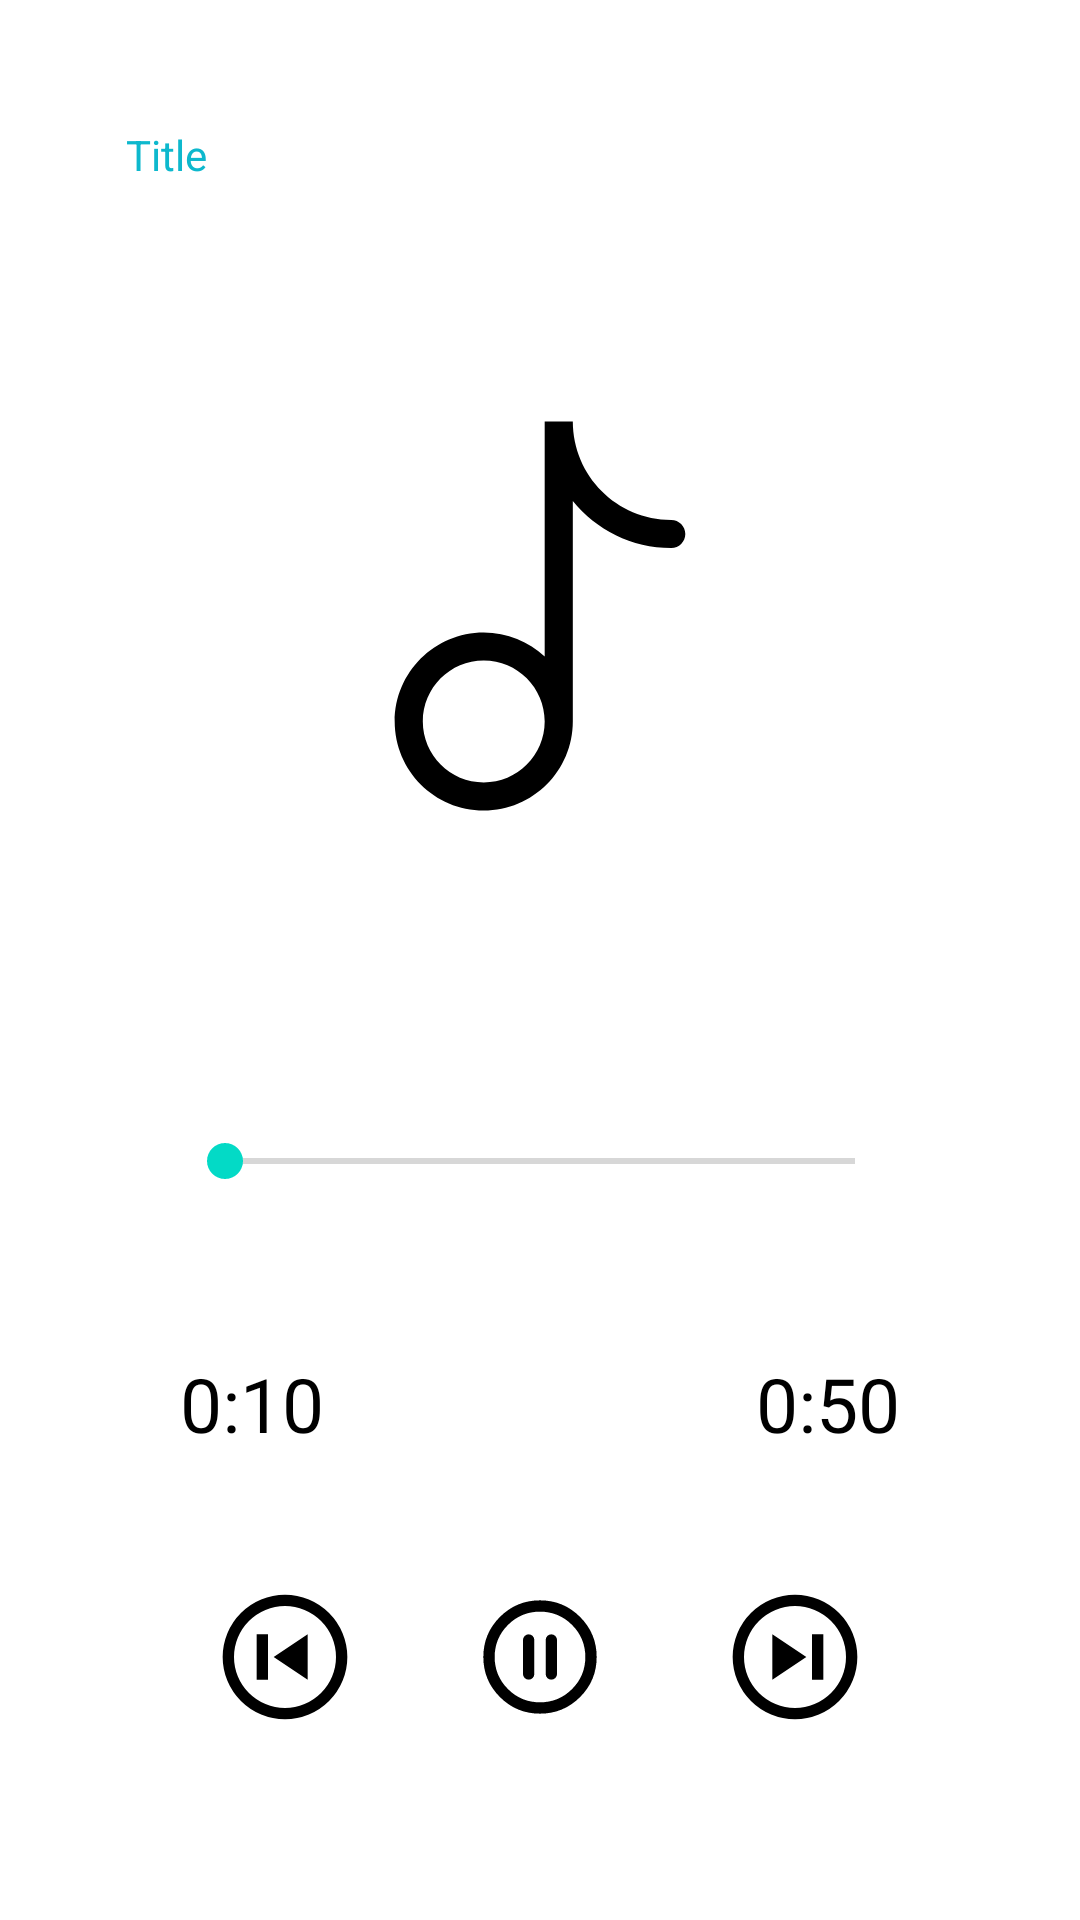

Named icons in this screenshot (1080 x 1920) and their bounding boxes, (x1,y1,x2,y2):
next: (732,1594,858,1720)
pause: (483,1600,597,1714)
previous: (222,1594,348,1720)
